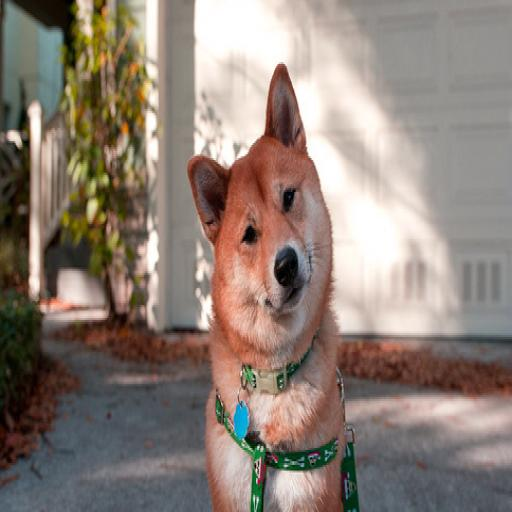dog_face: (197, 68, 329, 344)
